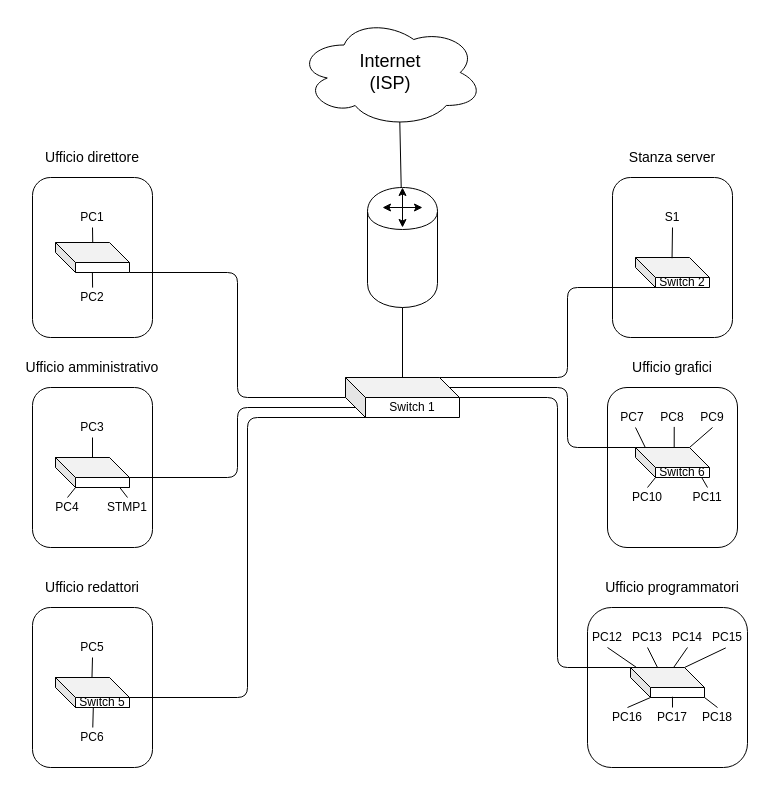
Some shapes in this 765 by 785 pixel diagram are drawn without their labels. The centre of each missing label's shape, as x and y in pixels:
Switch 3: [92,257]
Switch 4: [92,472]
Switch 7: [667,682]
